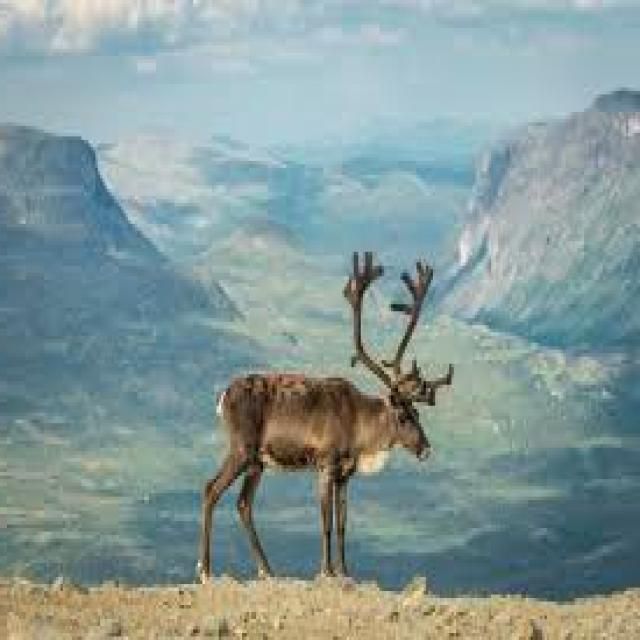reindeer: (198, 252, 454, 577)
